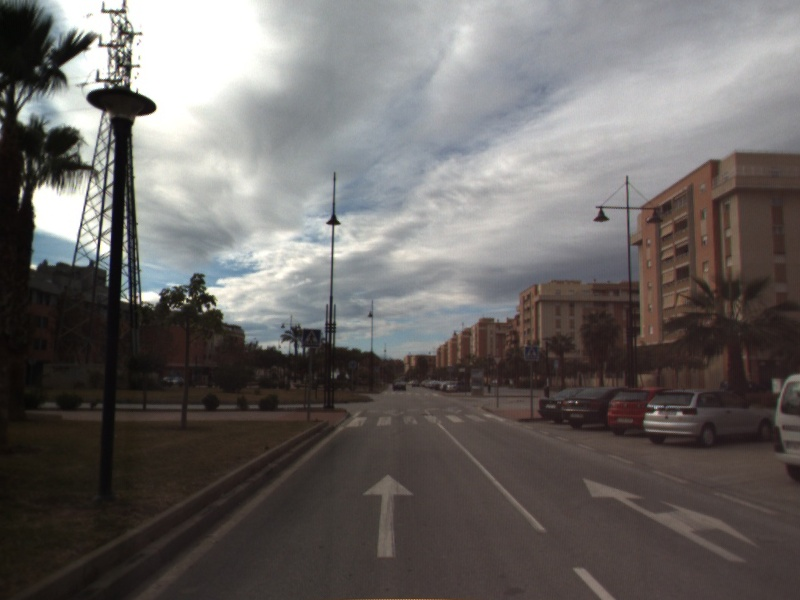STRAIGHT: (361, 472, 416, 559)
STRAIGHT_RIGHT: (580, 476, 763, 564)
